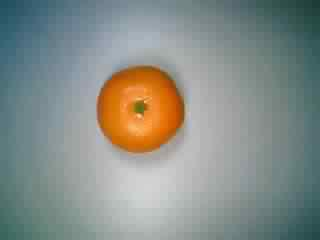orange: (92, 53, 187, 155)
